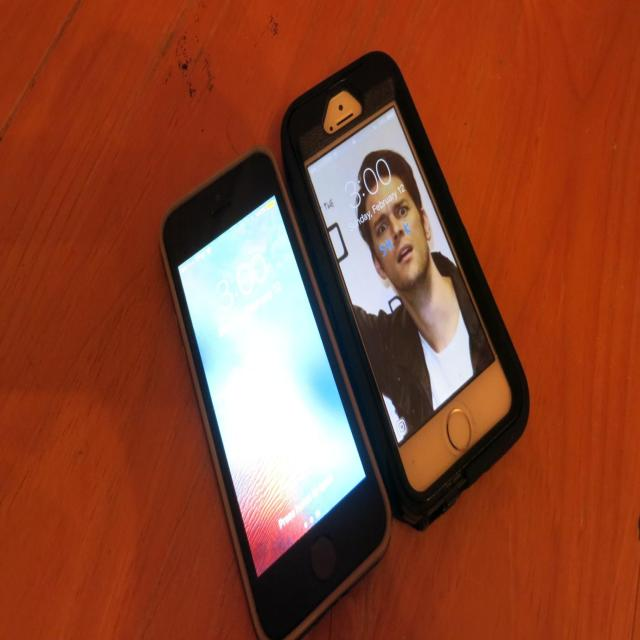Phone: (276, 49, 528, 534), (160, 141, 392, 640)
